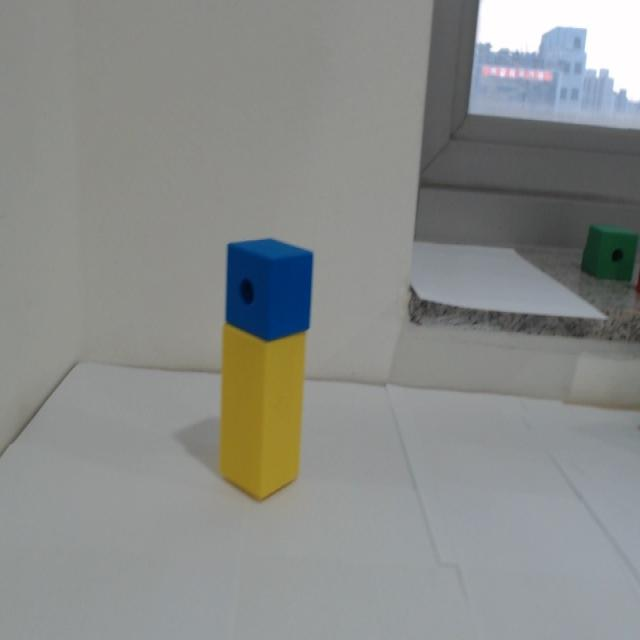cube: (222, 230, 316, 344)
